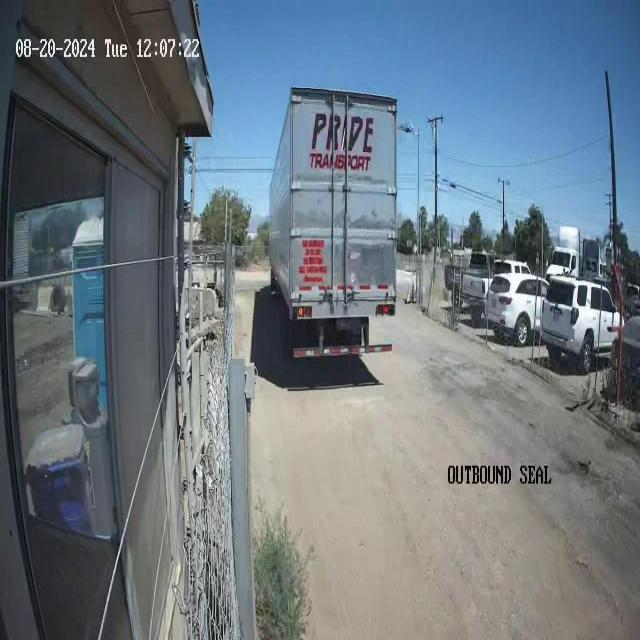TRUCK_OUT: (268, 85, 398, 351)
